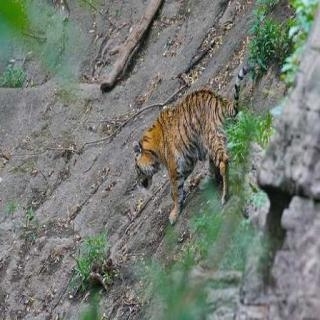Tiger: (126, 90, 252, 210)
